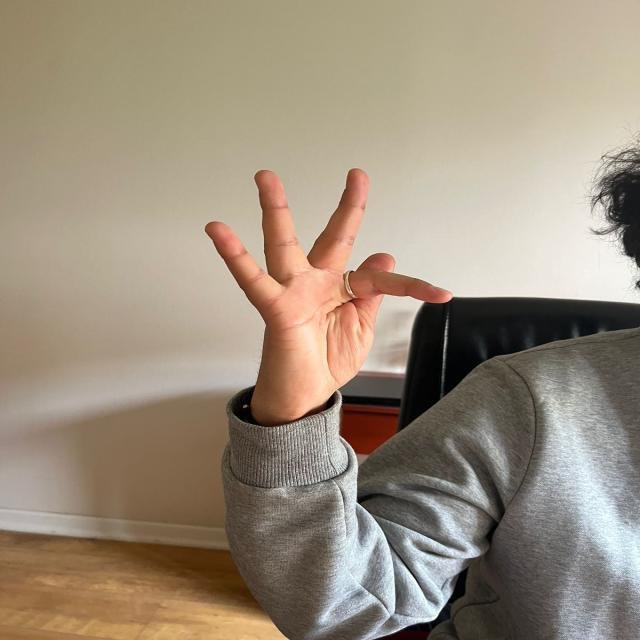F: (197, 158, 459, 402)
